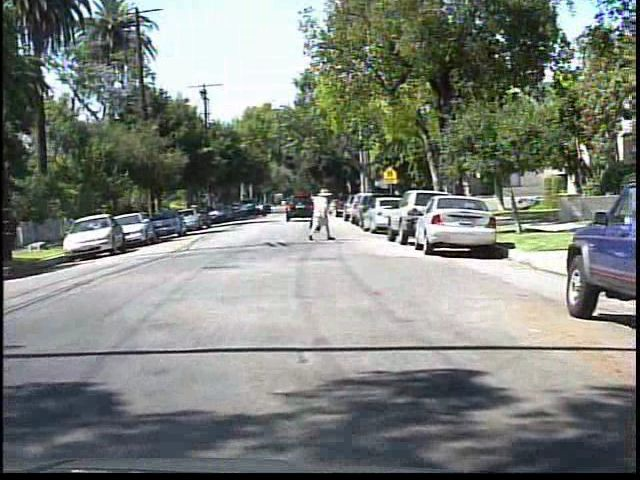person: (305, 185, 337, 243)
